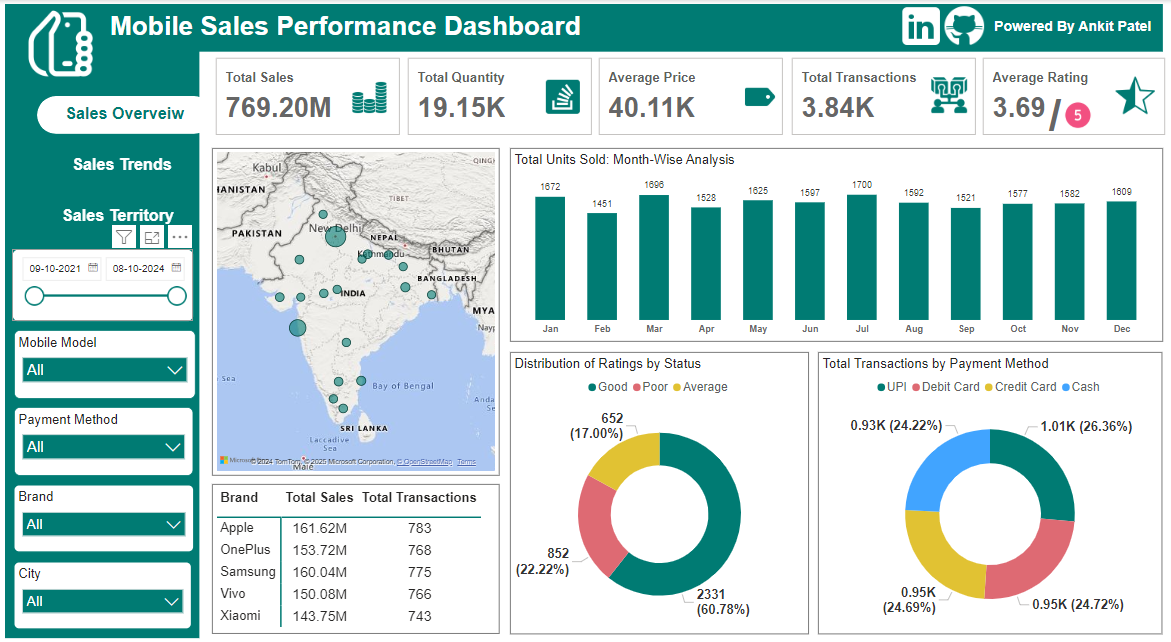

The dashboard page shown, as its layout file describes it:
{"tool":"powerbi","page":{"name":"Sales Territory","canvas":[1550,850],"ordinal":1},"visuals":[{"type":"shape","box":[8.5,9.9,256.9,834.1],"z":0},{"type":"shape","box":[994.3,516.2,38,179.5],"z":1000},{"type":"shape","box":[7.8,6.2,1534.4,62.5],"z":2000},{"type":"actionButton","title":"Mobile Sales Performance Dashboard","box":[146.8,15.5,633.7,42.3],"z":3000},{"type":"image","box":[0,0,162.3,117.1],"z":4000},{"type":"actionButton","title":"Powered By Ankit Patel","box":[1318.8,23.4,223.4,28.1],"z":5000},{"type":"image","box":[1251.6,1.6,67.2,68.8],"z":6000},{"type":"image","box":[1181.2,1.6,78.1,68.8],"z":7000},{"type":"slicer","title":"Mobile Model","fields":{"Values":["Mobile_sales_data.Mobile Model"]},"box":[19.5,436,239.6,90.5],"z":8000},{"type":"slicer","title":"Payment Method","fields":{"Values":["Mobile_sales_data.Payment Method"]},"box":[19.5,537.7,236.8,90.5],"z":9000},{"type":"slicer","title":"Brand","fields":{"Values":["Mobile_sales_data.Brand"]},"box":[18.1,639.4,239.6,90.5],"z":10000},{"type":"slicer","fields":{"Values":["Mobile_sales_data.Date"]},"box":[16.9,328.8,239.9,96],"z":11000},{"type":"slicer","title":"City","fields":{"Values":["Mobile_sales_data.City"]},"box":[18.1,741.1,236.8,90.5],"z":12000},{"type":"cardVisual","fields":{"Data":["Measures Table.Total Sales"]},"box":[281.3,71.6,253.2,112.5],"z":13000},{"type":"cardVisual","fields":{"Data":["Measures Table.Total Quantity"]},"box":[534.7,71.6,253,112.2],"z":14000},{"type":"cardVisual","fields":{"Data":["Measures Table.Transactions"]},"box":[1041.9,71.6,253,112.2],"z":15000},{"type":"cardVisual","fields":{"Data":["Measures Table.Avg Price"]},"box":[787.7,71.6,253,112.2],"z":16000},{"type":"image","box":[444,100.3,90.7,54.9],"z":17000},{"type":"image","box":[709,100.3,71.6,54.9],"z":18000},{"type":"image","box":[978.7,100.3,52.5,54.9],"z":19000},{"type":"image","box":[1219.8,94.3,72.8,64.5],"z":20000},{"type":"cardVisual","fields":{"Data":["Measures Table.Avg Rating"]},"box":[1295.3,71.9,251.6,112.5],"z":21000},{"type":"image","box":[1465.4,95.1,71.4,62.1],"z":22000},{"type":"image","box":[1396.7,128.2,58.1,47.6],"z":23000},{"type":"actionButton","title":"/","box":[1368.8,117.2,53.1,57.8],"z":24000},{"type":"barChart","title":"Sales Analysis: Total Sales by Day","fields":{"Category":["Custom_Calendar.Day"],"Y":["Measures Table.Total Sales"]},"box":[282.8,200.9,352.8,642.2],"z":25000},{"type":"barChart","title":"Top Mobile Models by Total Sales","fields":{"Category":["Mobile_sales_data.Mobile Model"],"Y":["Measures Table.Total Sales"]},"box":[647.5,200.9,445.3,313.2],"z":26000},{"type":"barChart","title":"Bottom Mobile Models by Total Sales","fields":{"Y":["Measures Table.Total Sales"],"Category":["Mobile_sales_data.Mobile Model"]},"box":[1108.7,200.9,433.4,313.2],"z":27000},{"type":"barChart","title":"Top Mobile Models by Units Sold","fields":{"Y":["Measures Table.Total Quantity"],"Category":["Mobile_sales_data.Mobile Model"]},"box":[647.5,529.9,445.3,313.2],"z":28000},{"type":"barChart","title":"Bottom Mobile Models by Units Sold","fields":{"Y":["Measures Table.Total Quantity"],"Category":["Mobile_sales_data.Mobile Model"]},"box":[1108.7,529.9,433.4,313.2],"z":29000},{"type":"shape","box":[45.3,193.8,232.8,50],"z":30000},{"type":"actionButton","title":"Sales Overveiw","box":[85.9,138.7,159.9,26.4],"z":31000},{"type":"actionButton","title":"Sales  Trends","box":[50.2,206.1,224.6,25.1],"z":32000},{"type":"actionButton","title":"Sales Territory","box":[50.2,273.5,214.1,25.1],"z":33000}]}

Visuals, with their boxes in screenshot pixels (x1, y1, x2, y2), scaled from the page's 1550x850 canvas onto the 1171x642 screenshot:
shape: crop(6, 7, 201, 637)
shape: crop(751, 390, 780, 525)
shape: crop(6, 5, 1165, 52)
"Mobile Sales Performance Dashboard" actionButton: crop(111, 12, 590, 44)
image: crop(0, 0, 123, 88)
"Powered By Ankit Patel" actionButton: crop(996, 18, 1165, 39)
image: crop(946, 1, 996, 53)
image: crop(892, 1, 951, 53)
"Mobile Model" slicer: crop(15, 329, 196, 398)
"Payment Method" slicer: crop(15, 406, 194, 474)
"Brand" slicer: crop(14, 483, 195, 551)
slicer - Mobile_sales_data.Date: crop(13, 248, 194, 321)
"City" slicer: crop(14, 560, 193, 628)
cardVisual - Measures Table.Total Sales: crop(213, 54, 404, 139)
cardVisual - Measures Table.Total Quantity: crop(404, 54, 595, 139)
cardVisual - Measures Table.Transactions: crop(787, 54, 978, 139)
cardVisual - Measures Table.Avg Price: crop(595, 54, 786, 139)
image: crop(335, 76, 404, 117)
image: crop(536, 76, 590, 117)
image: crop(739, 76, 779, 117)
image: crop(922, 71, 977, 120)
cardVisual - Measures Table.Avg Rating: crop(979, 54, 1169, 139)
image: crop(1107, 72, 1161, 119)
image: crop(1055, 97, 1099, 133)
"/" actionButton: crop(1034, 89, 1074, 132)
"Sales Analysis: Total Sales by Day" barChart: crop(214, 152, 480, 637)
"Top Mobile Models by Total Sales" barChart: crop(489, 152, 826, 388)
"Bottom Mobile Models by Total Sales" barChart: crop(838, 152, 1165, 388)
"Top Mobile Models by Units Sold" barChart: crop(489, 400, 826, 637)
"Bottom Mobile Models by Units Sold" barChart: crop(838, 400, 1165, 637)
shape: crop(34, 146, 210, 184)
"Sales Overveiw" actionButton: crop(65, 105, 186, 125)
"Sales  Trends" actionButton: crop(38, 156, 208, 175)
"Sales Territory" actionButton: crop(38, 207, 200, 226)
